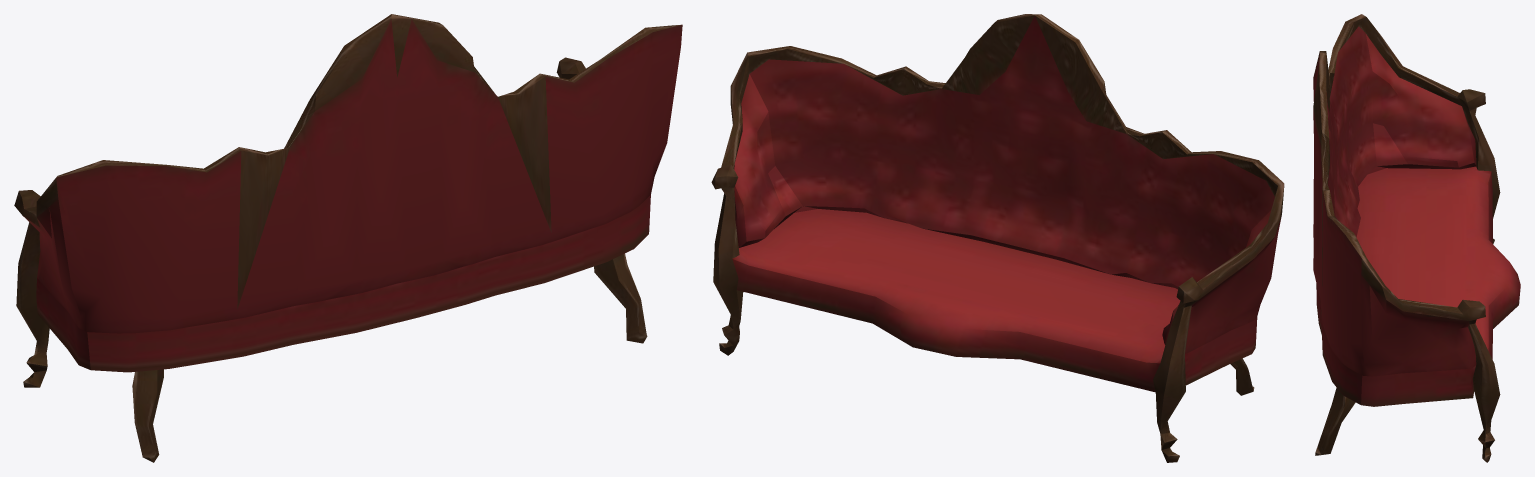
Rendered from sofa-camelback.lod1.glb.
The picture shows the model from 3 angles, left to right: view 1: azimuth 30°, elevation 25°; view 2: azimuth 150°, elevation 25°; view 3: azimuth 270°, elevation 25°; orthographic projection. The views are drawn at different scales.
Visible parts, largest first — view 1: sofa-camelback; view 2: sofa-camelback; view 3: sofa-camelback.
Part boxes in pixels (x1,y1,x2,y2): sofa-camelback: (14, 14, 682, 462); sofa-camelback: (711, 14, 1284, 462); sofa-camelback: (1313, 14, 1520, 462).
Bounding box in the file's own units: 2.49 × 1.43 × 0.8742.
1 material, 1 textured.
